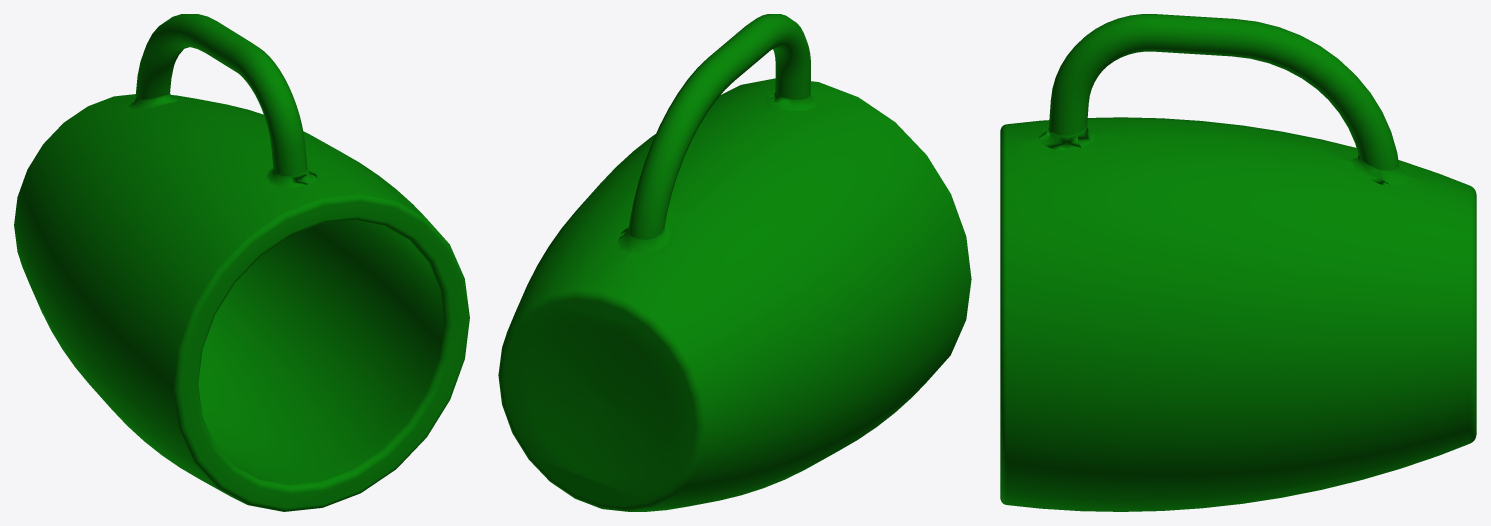
3 renders of one model, left to right at view 1: azimuth 30°, elevation 25°; view 2: azimuth 150°, elevation 25°; view 3: azimuth 270°, elevation 25°, orthographic. The views are drawn at different scales.
Size of the model in its own units: 0.4888 by 0.645 by 0.5875.
